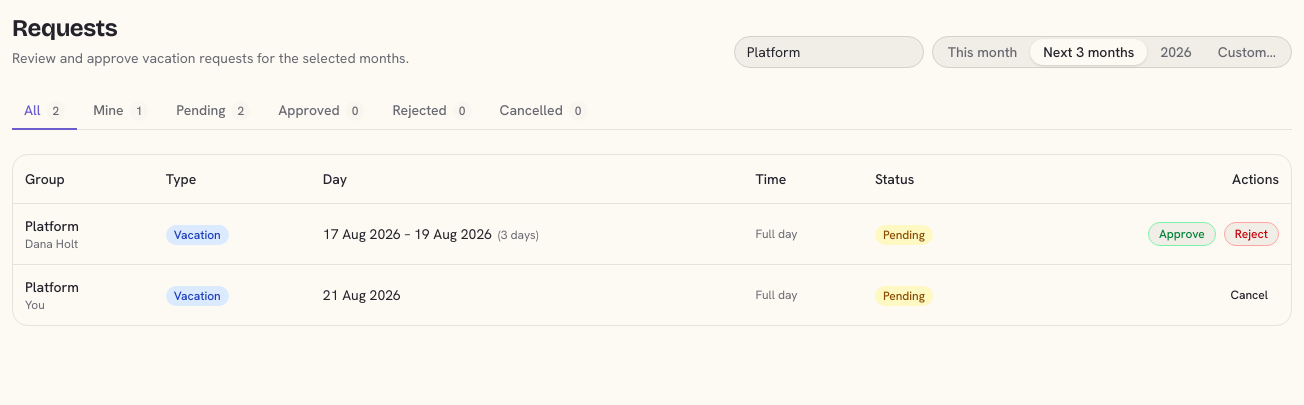
Test case: RequestsPage action errors › drops the message when the user switches to a different list
The width and height of the screenshot is (1304, 405).
Click the button "Cancel": (1249,294) [1219,282,1279,306]
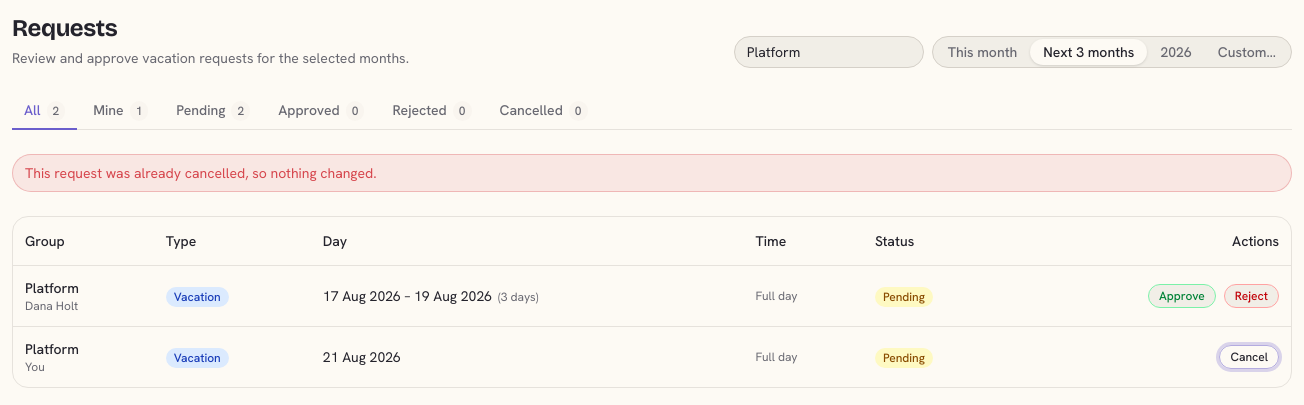
Now the message "This request was already cancelled, so nothing changed." is shown, box [12,154,1292,192]
Click the button "Rejected0": (432,111) [380,92,484,130]
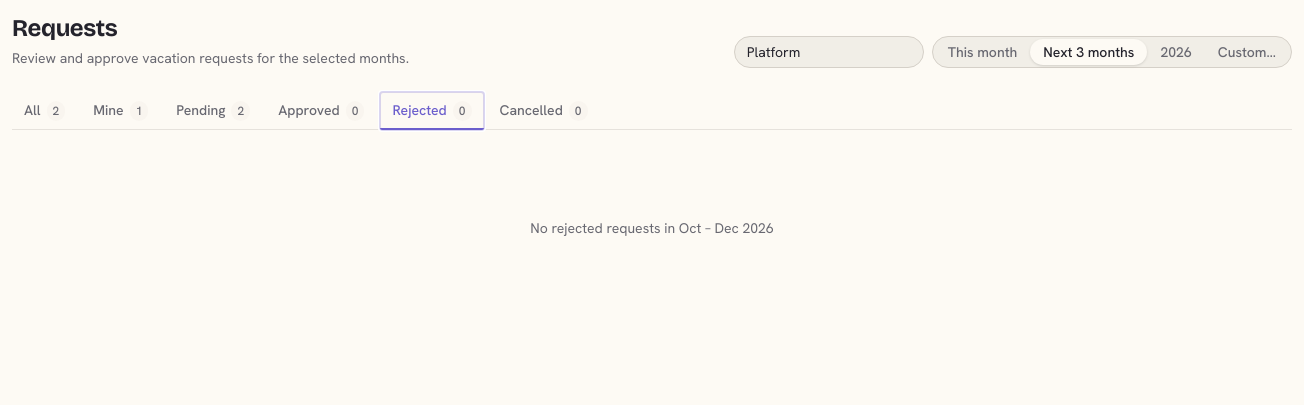
Now the message "This request was already cancelled, so nothing changed." is gone
